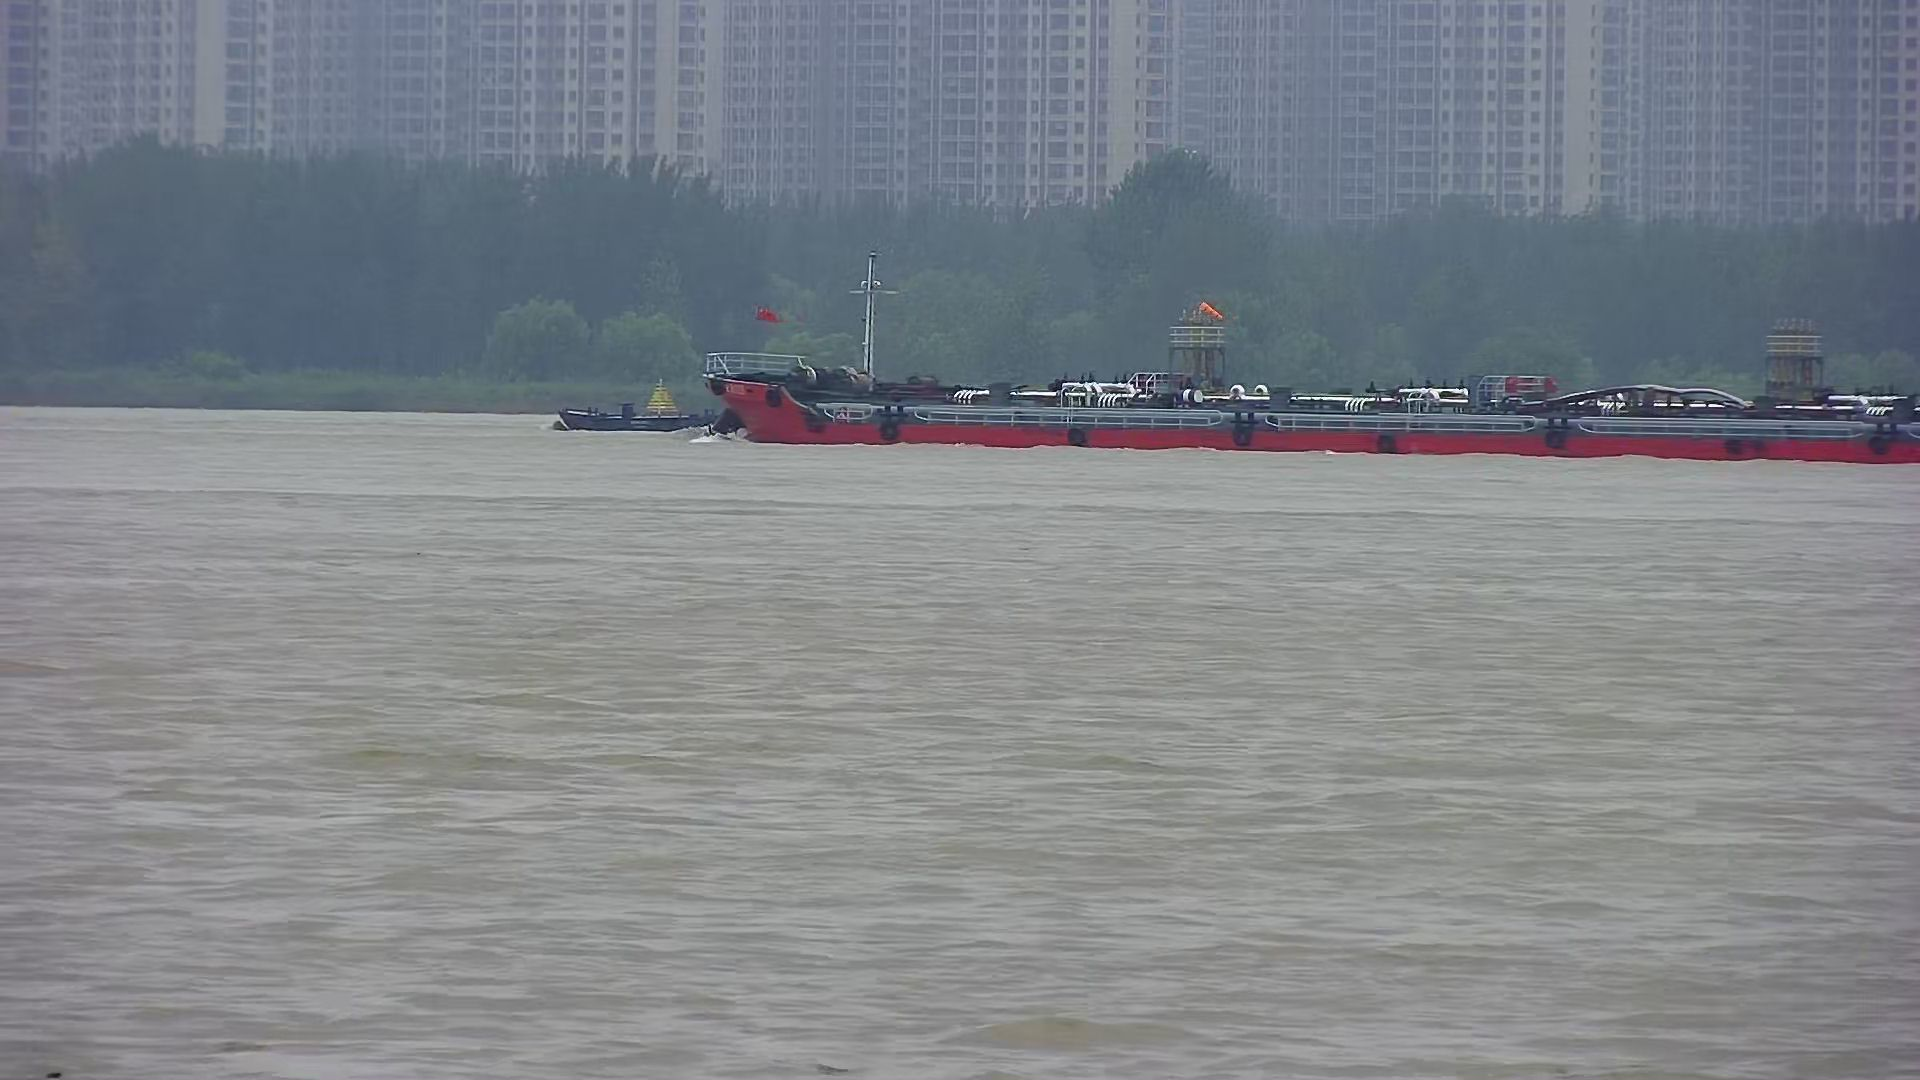boat: (537, 368, 707, 436)
ship: (723, 307, 1920, 479)
